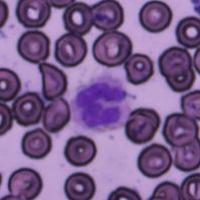N: (70, 72, 132, 132)
